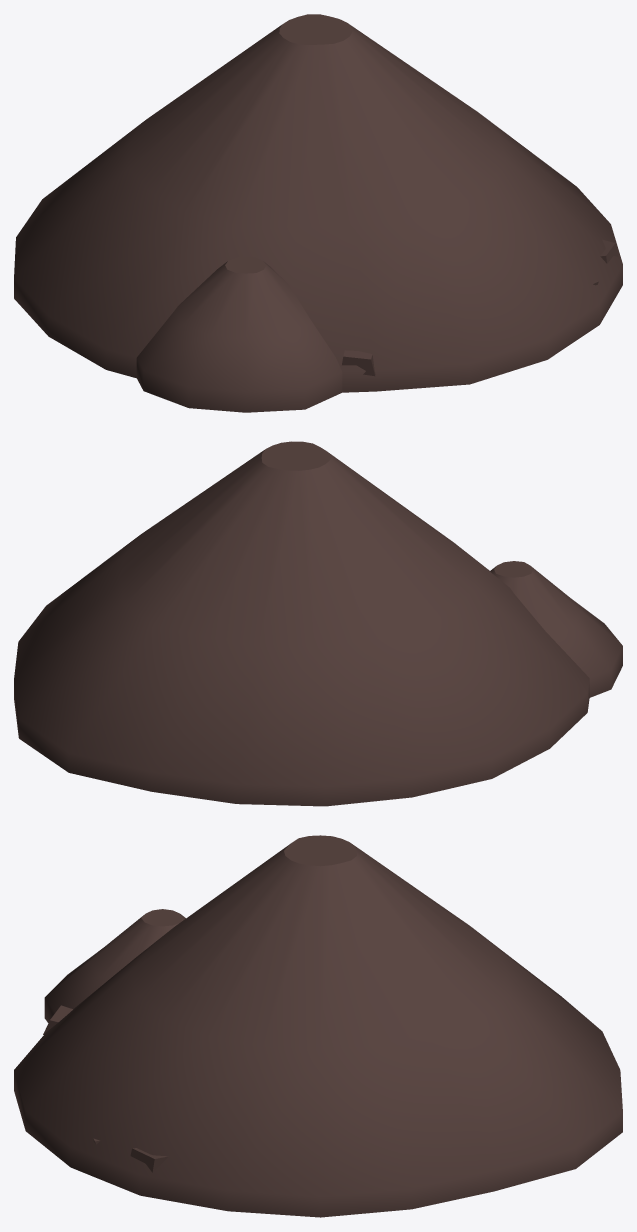
Rendered from site_stockpile1.fbx.
3 views of the same model, one above another, from view 1: azimuth 30°, elevation 25°; view 2: azimuth 150°, elevation 25°; view 3: azimuth 270°, elevation 25° (orthographic). The views are drawn at different scales.
Visible parts, largest first — view 1: a1022/0/site_stockpile1; view 2: a1022/0/site_stockpile1; view 3: a1022/0/site_stockpile1.
Boxes of the visible parts, x1,y1,x2,y2 form: a1022/0/site_stockpile1: (14, 14, 622, 412); a1022/0/site_stockpile1: (14, 441, 622, 806); a1022/0/site_stockpile1: (14, 835, 622, 1217).
Bounding box in the file's own units: 13.8 × 6.02 × 13.86.
